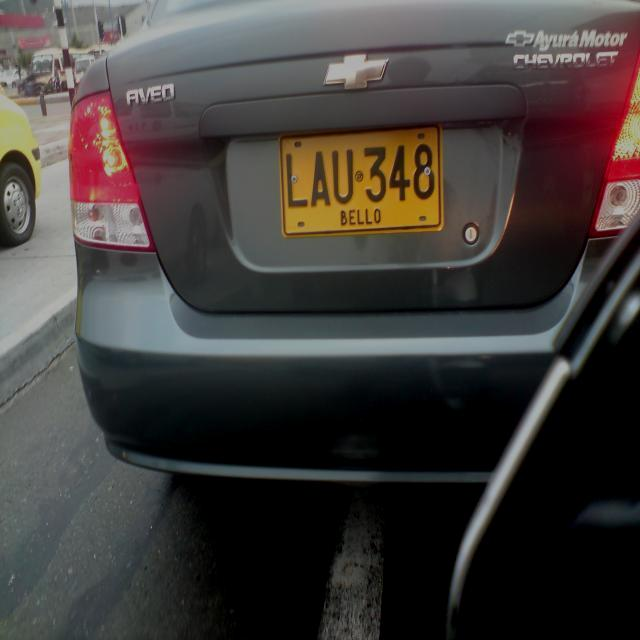placa: (274, 124, 446, 240)
